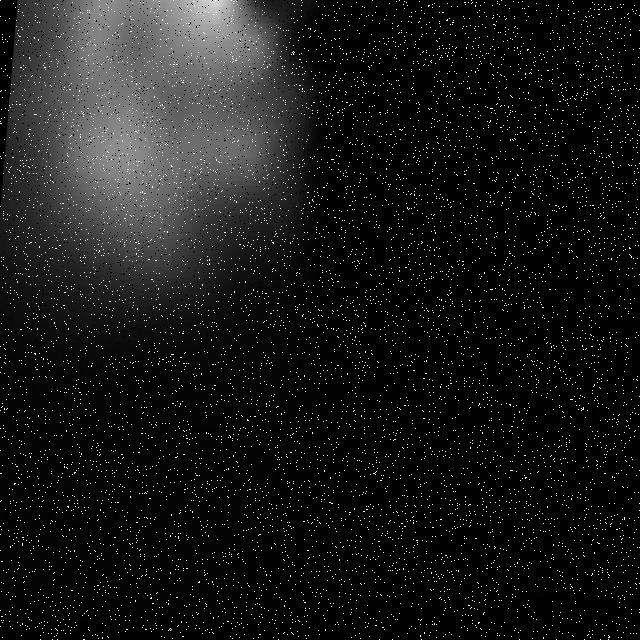person: (1, 1, 326, 460)
